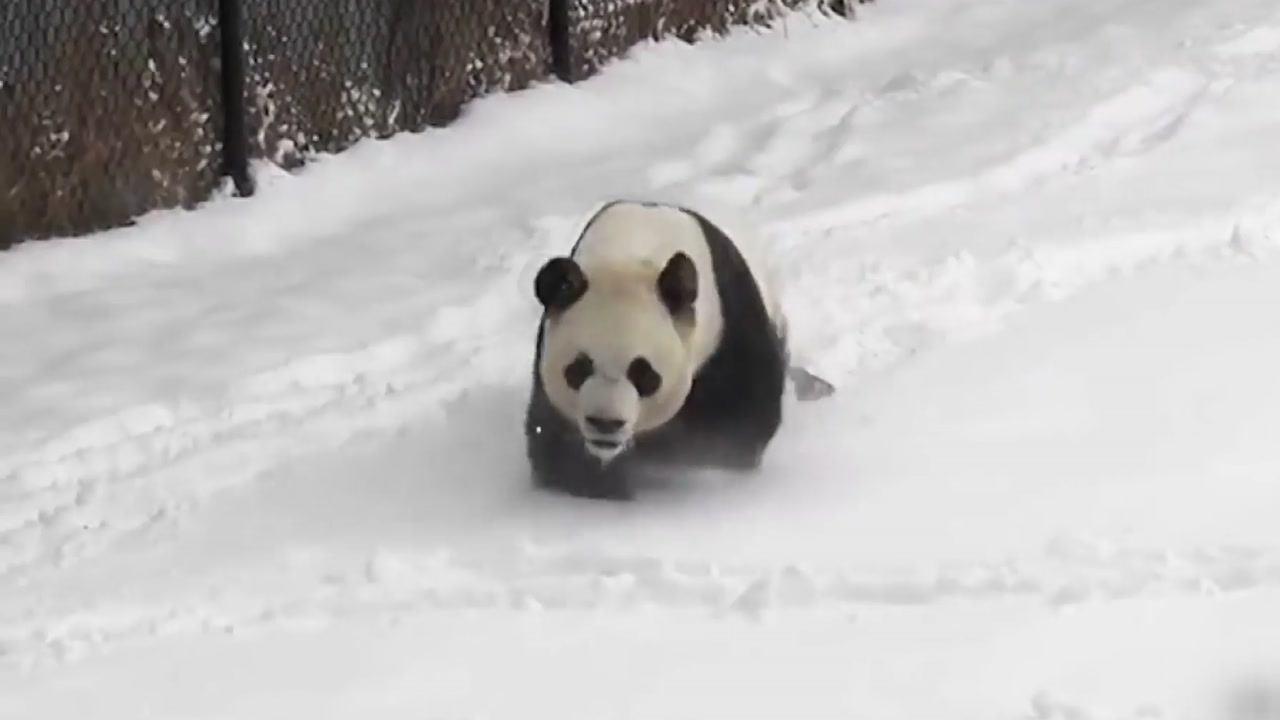panda: (488, 187, 874, 501)
